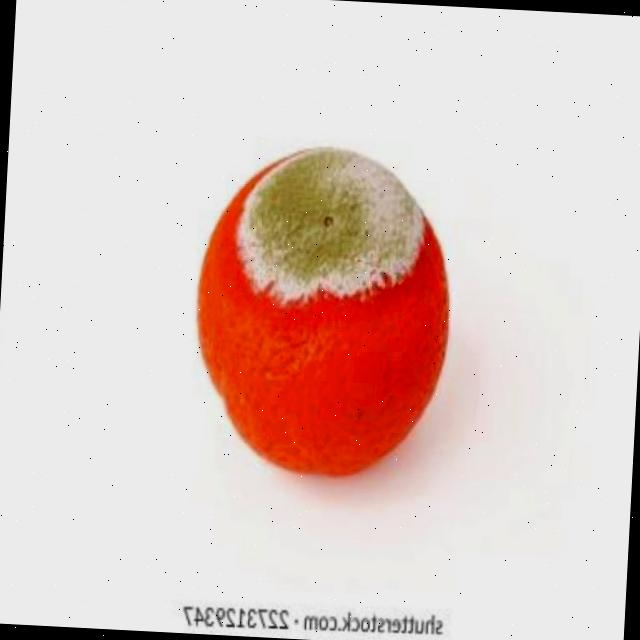rotten orange: (186, 138, 459, 482)
